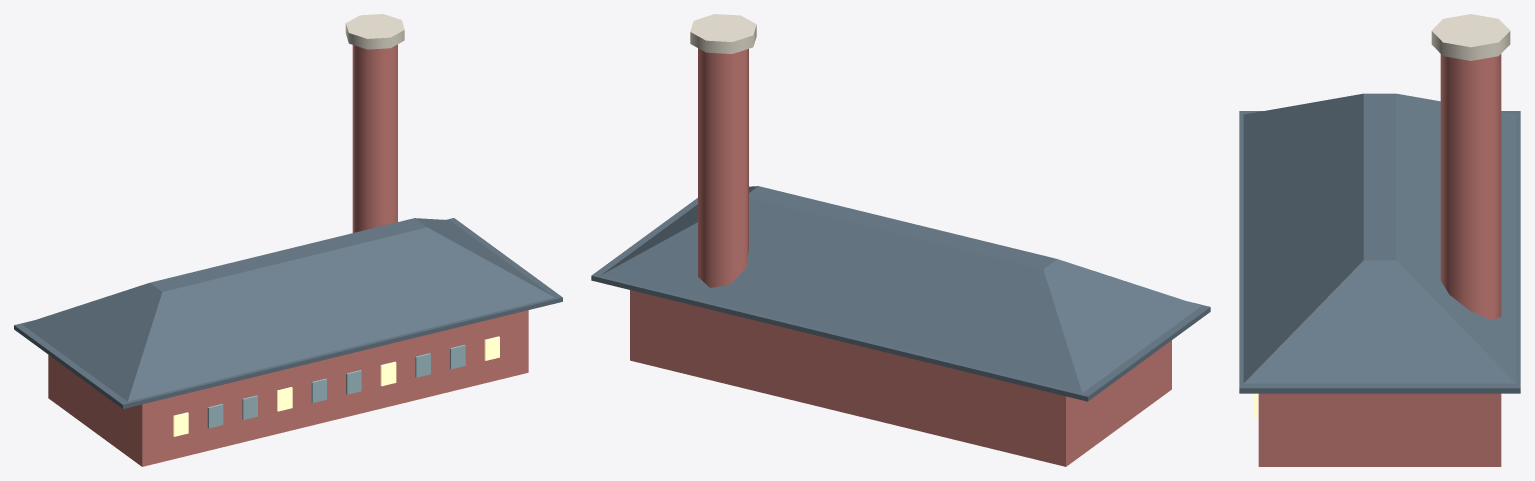
File: chimney.glb
The picture shows the model from 3 angles, left to right: view 1: azimuth 30°, elevation 25°; view 2: azimuth 150°, elevation 25°; view 3: azimuth 270°, elevation 25°; orthographic projection. The views are drawn at different scales.
Visible parts, largest first — view 1: chimney; view 2: chimney; view 3: chimney.
Part boxes in pixels (x1,y1,x2,y2): chimney: (14,14,562,466); chimney: (591,14,1210,466); chimney: (1239,14,1520,466).
Size of the model in its own units: 21.63 by 14.25 by 9.27.
